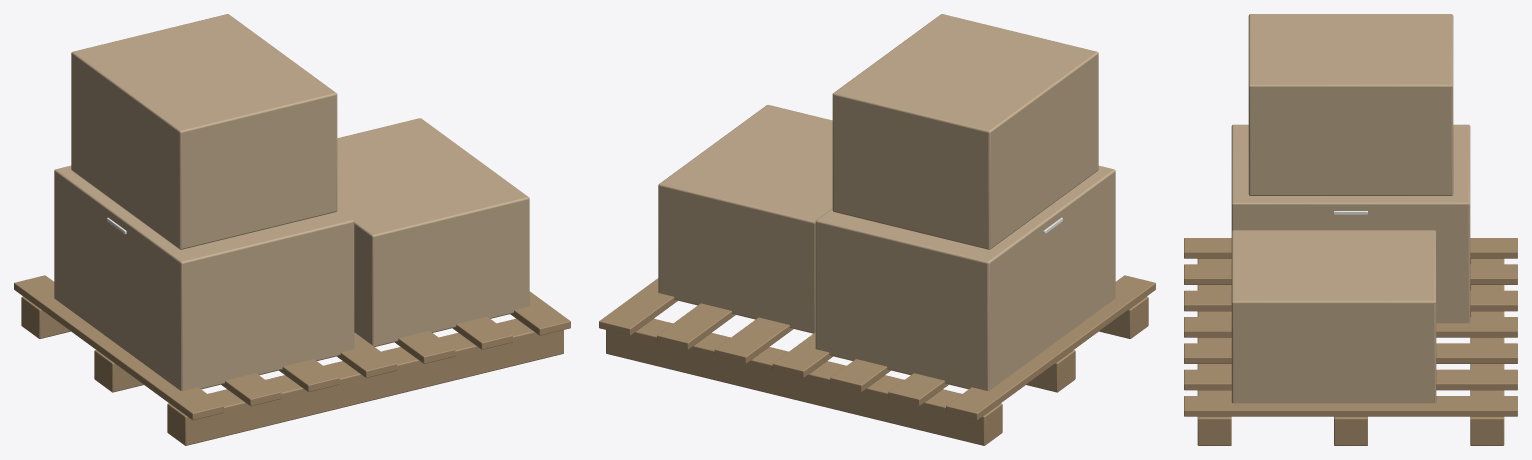
The model's file is pallet_boxes.glb.
3 views of the same model, side by side, from view 1: azimuth 30°, elevation 25°; view 2: azimuth 150°, elevation 25°; view 3: azimuth 270°, elevation 25° (orthographic). The views are drawn at different scales.
Visible parts, largest first — view 1: pallet_boxes; view 2: pallet_boxes; view 3: pallet_boxes.
Part boxes in pixels (<box>): pallet_boxes: <box>14,14,570,445</box>; pallet_boxes: <box>599,14,1155,445</box>; pallet_boxes: <box>1184,14,1517,445</box>.
Bounding box in the file's own units: 1.2 × 0.875 × 0.98.
